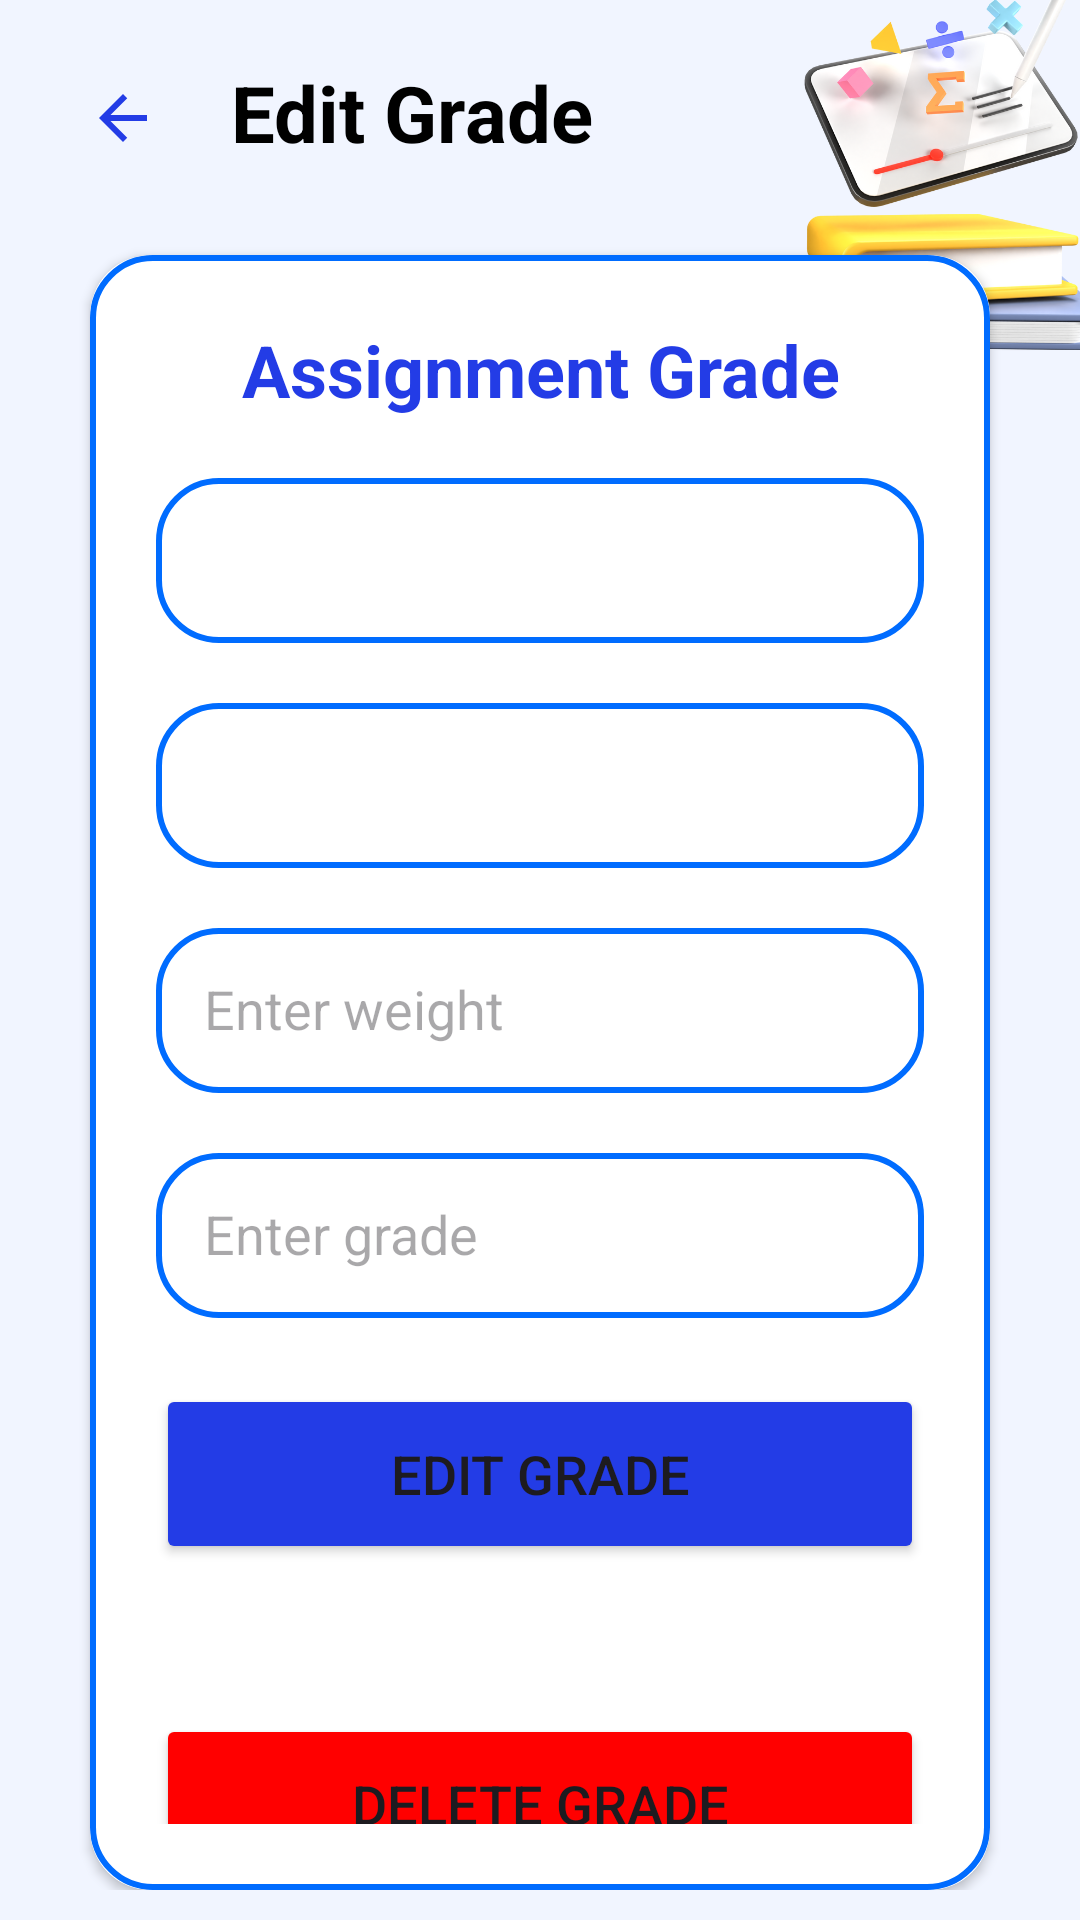

Where to tap for icons on this 1080px x 1920px app screen, as (x=x, y=y):
arrow back: (x=123, y=118)
